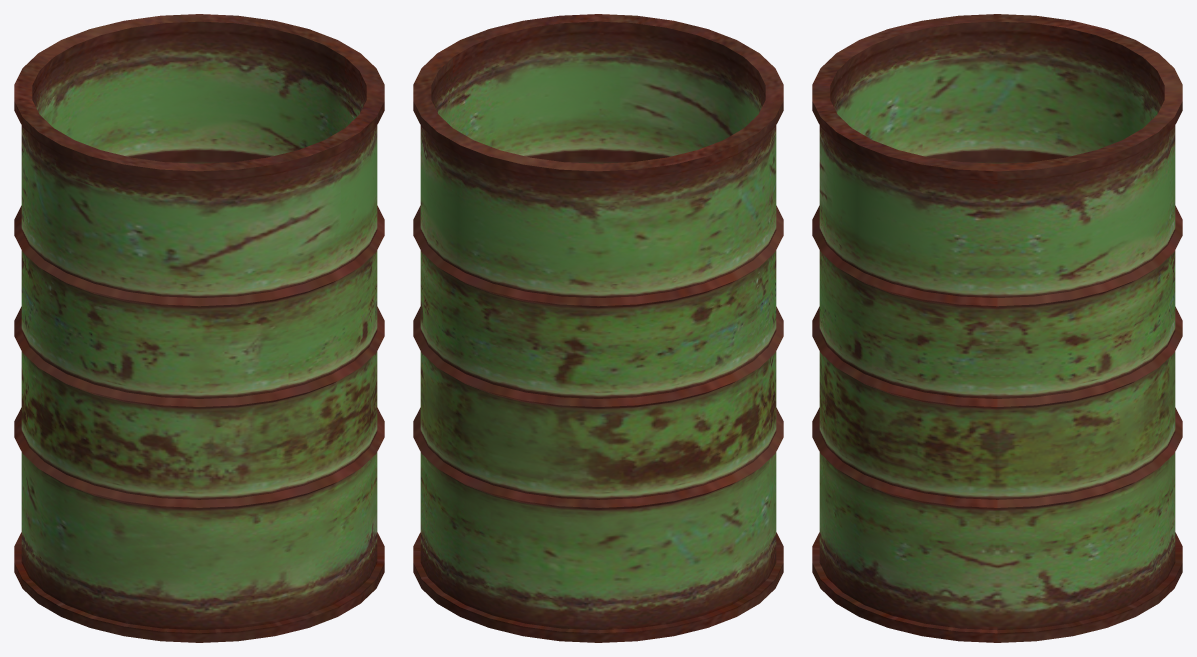
The model's file is Barrel.obj.
3 renders of one model, left to right at view 1: azimuth 30°, elevation 25°; view 2: azimuth 150°, elevation 25°; view 3: azimuth 270°, elevation 25°, orthographic.
Parts seen in each view (by area): view 1: Barrel; view 2: Barrel; view 3: Barrel.
Part boxes in pixels (x1,y1,x2,y2): Barrel: (14, 14, 384, 642); Barrel: (413, 14, 783, 642); Barrel: (812, 14, 1182, 642).
Size of the model in its own units: 4.1 by 5.73 by 4.08.
1 material, 1 textured.
